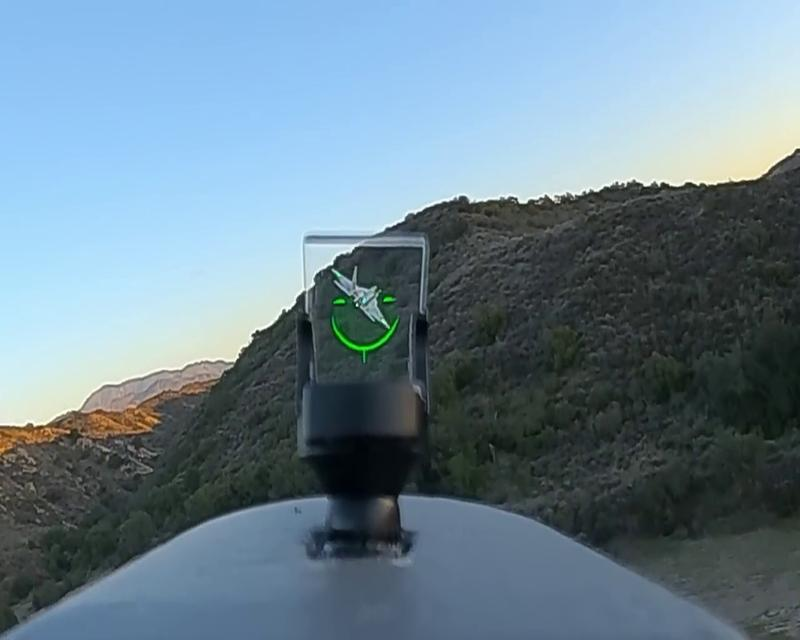UAV: (329, 265, 392, 330)
